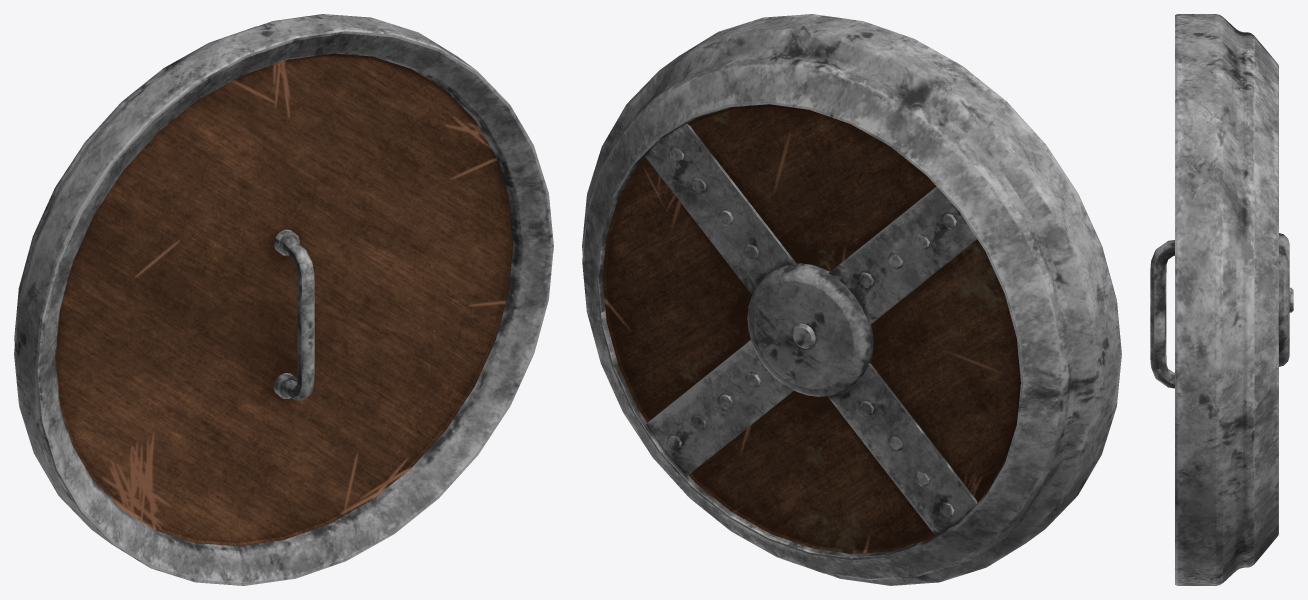
Rendered from Shield_02.fbx.
3 views of the same model, side by side, from view 1: azimuth 30°, elevation 25°; view 2: azimuth 150°, elevation 25°; view 3: azimuth 270°, elevation 25° (orthographic). The views are drawn at different scales.
Parts seen in each view (by area): view 1: Shield_02; view 2: Shield_02; view 3: Shield_02.
Part boxes in pixels (x1,y1,x2,y2): Shield_02: (14, 14, 553, 585); Shield_02: (582, 14, 1121, 585); Shield_02: (1150, 14, 1293, 585).
Bounding box in the file's own units: 34.1 × 34.1 × 8.53.
6 materials, 6 textured.
